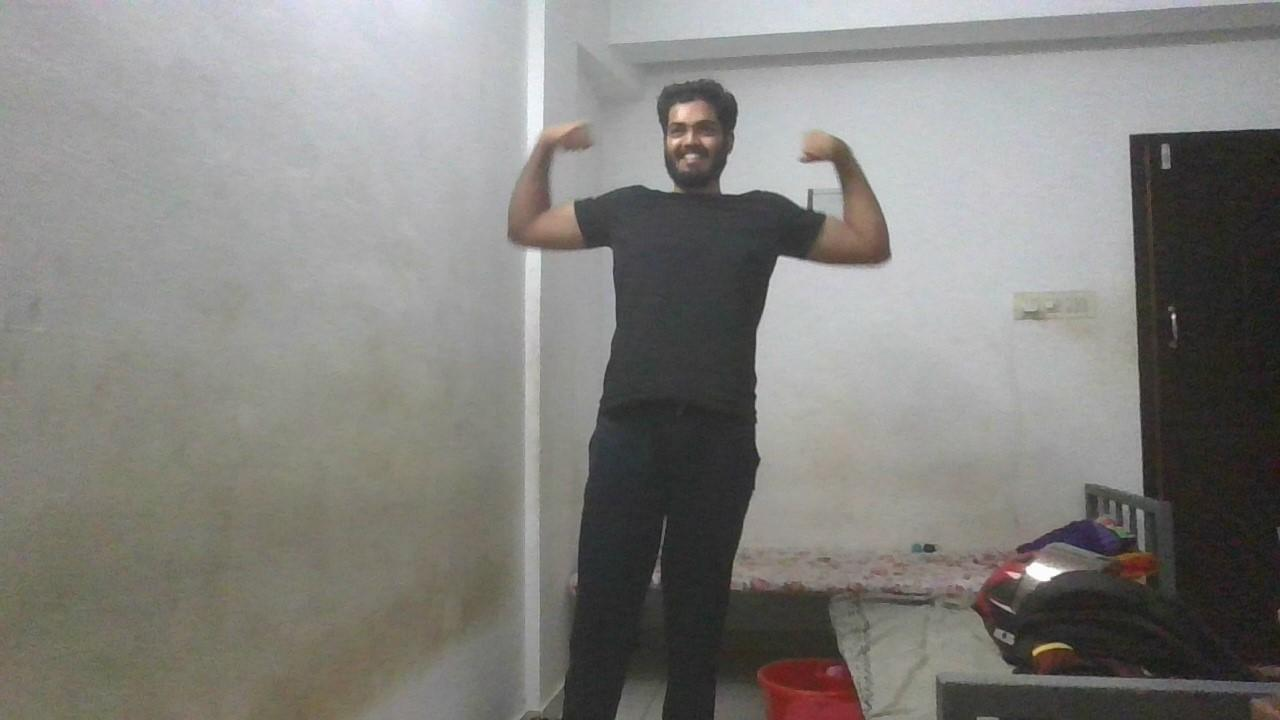nohelmet: (658, 78, 739, 199)
